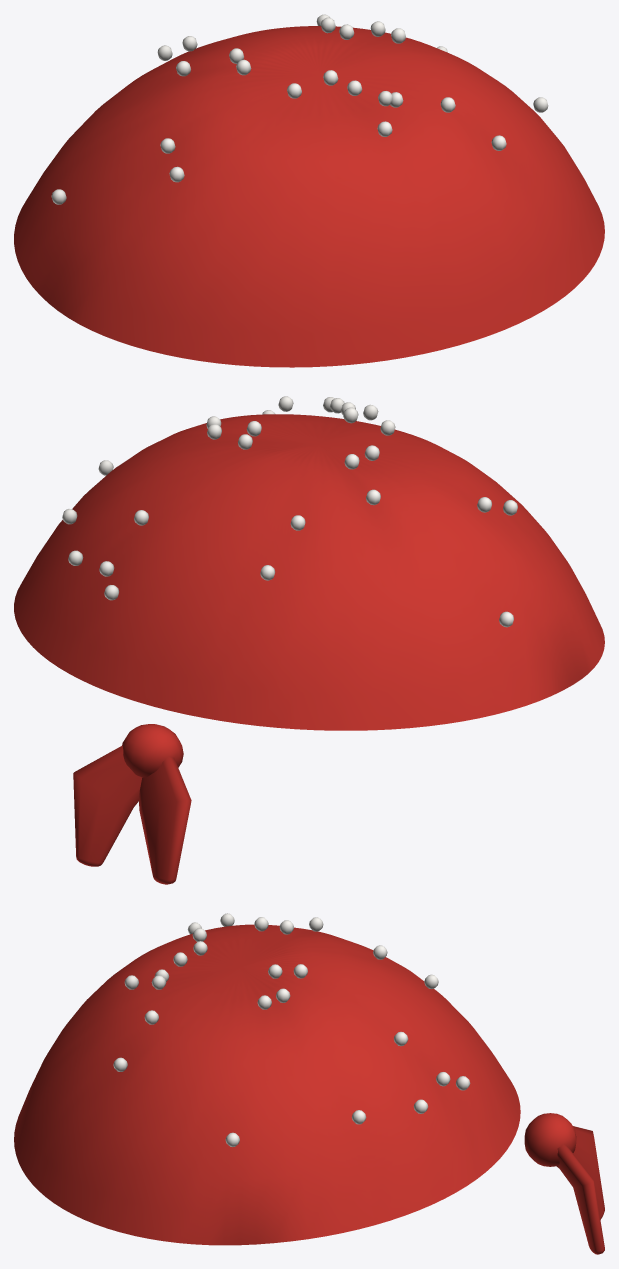
Rendered from hw_bandana.glb.
The picture shows the model from 3 angles, top to bottom: view 1: azimuth 30°, elevation 25°; view 2: azimuth 150°, elevation 25°; view 3: azimuth 270°, elevation 25°; orthographic projection. The views are drawn at different scales.
Parts seen in each view (by area): view 1: hw_bandana, hw_bandana_dots; view 2: hw_bandana, hw_bandana_knot, hw_bandana_dots; view 3: hw_bandana, hw_bandana_knot, hw_bandana_dots.
Boxes of the visible parts, x1,y1,x2,y2 form: hw_bandana: (14, 26, 604, 367); hw_bandana_dots: (51, 14, 548, 204); hw_bandana: (14, 414, 604, 730); hw_bandana_knot: (73, 724, 191, 884); hw_bandana_dots: (62, 396, 517, 627); hw_bandana: (14, 924, 520, 1245); hw_bandana_knot: (524, 1113, 604, 1254); hw_bandana_dots: (113, 913, 470, 1146).
Bounding box in the file's own units: 0.8452 × 0.4857 × 0.8889.
